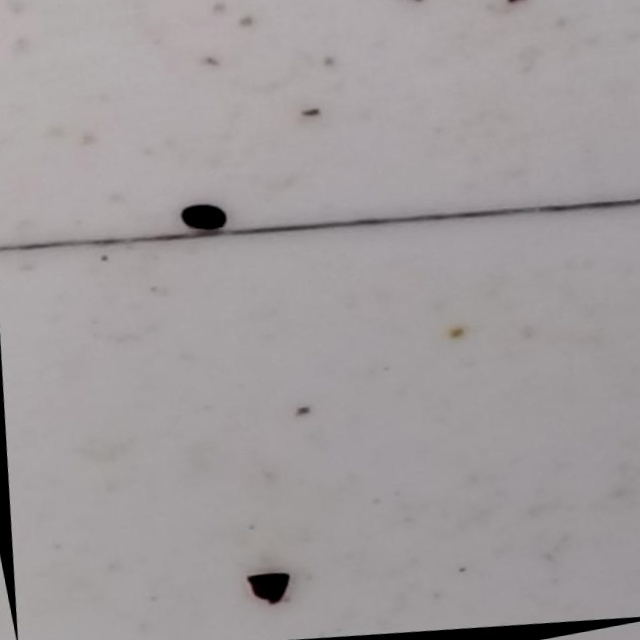varroa: (168, 202, 224, 244), (239, 572, 295, 613)
